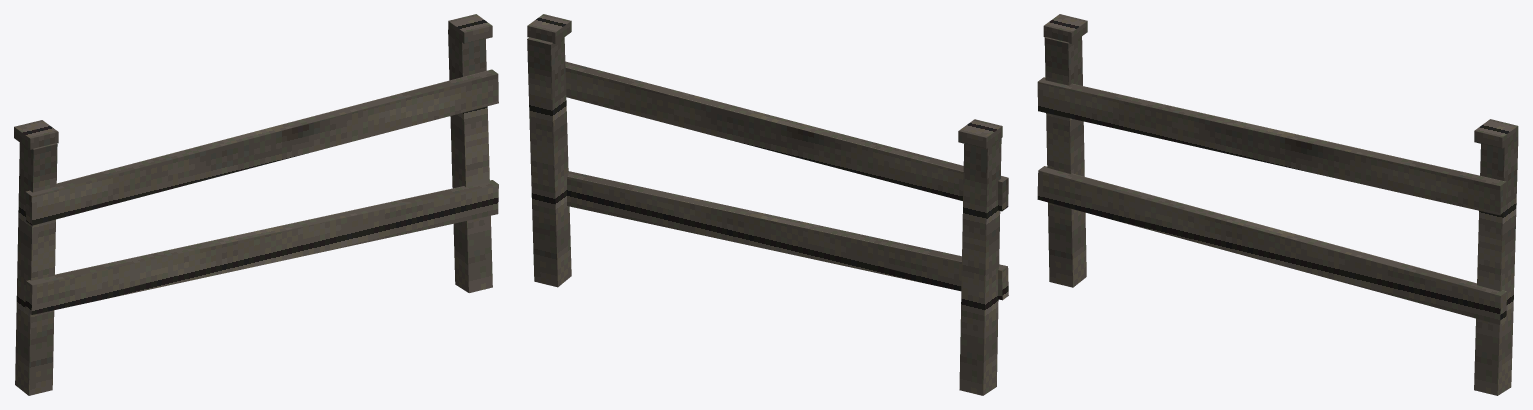
The model's file is valla.obj.
3 renders of one model, left to right at view 1: azimuth 30°, elevation 25°; view 2: azimuth 150°, elevation 25°; view 3: azimuth 330°, elevation 25°, orthographic.
Parts seen in each view (by area): view 1: valla; view 2: valla; view 3: valla.
Part boxes in pixels (left/top/right/bottom): valla: left=14, top=14, right=498, bottom=395; valla: left=527, top=14, right=1008, bottom=395; valla: left=1037, top=14, right=1518, bottom=395.
Size of the model in its own units: 2.15 by 1.15 by 0.1787.
1 material, 1 textured.
